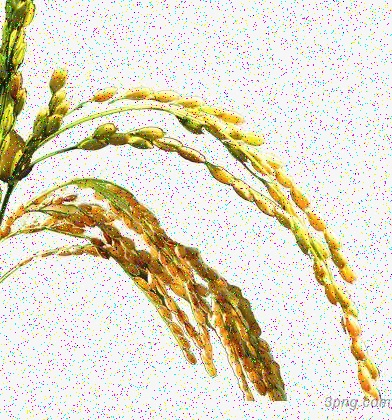rice: (35, 65, 382, 394), (6, 177, 285, 403)
